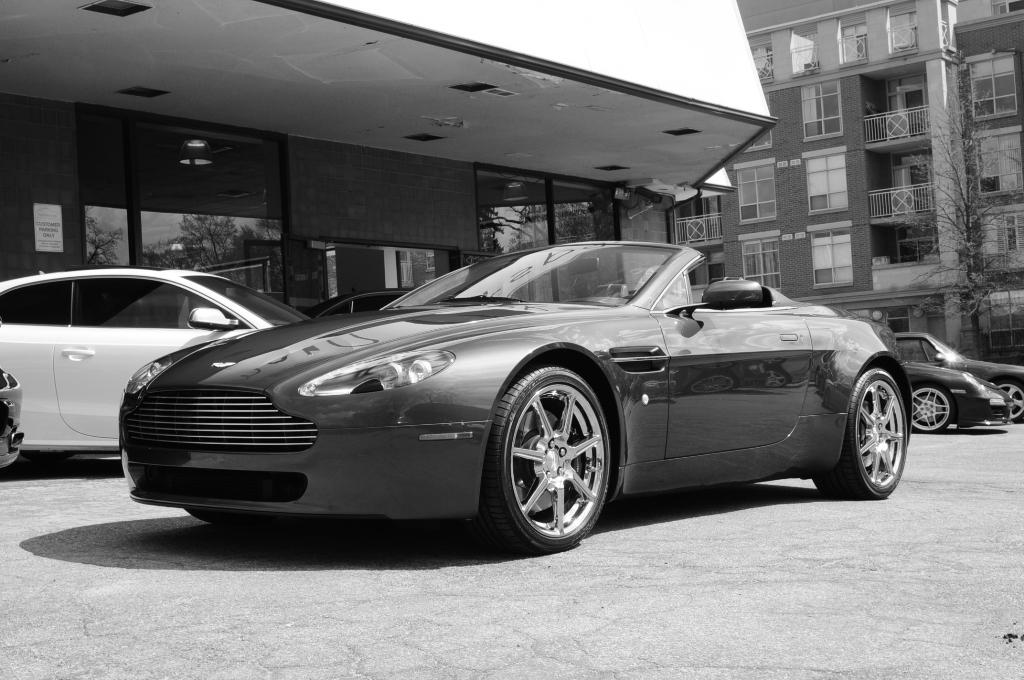car: (121, 241, 916, 559)
